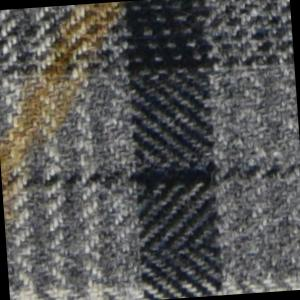Oil Stain: (1, 2, 149, 230)
